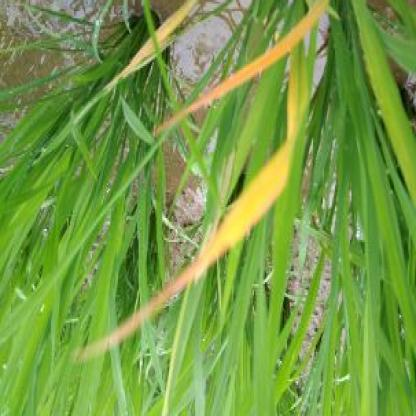Tungro: (87, 151, 296, 360)
